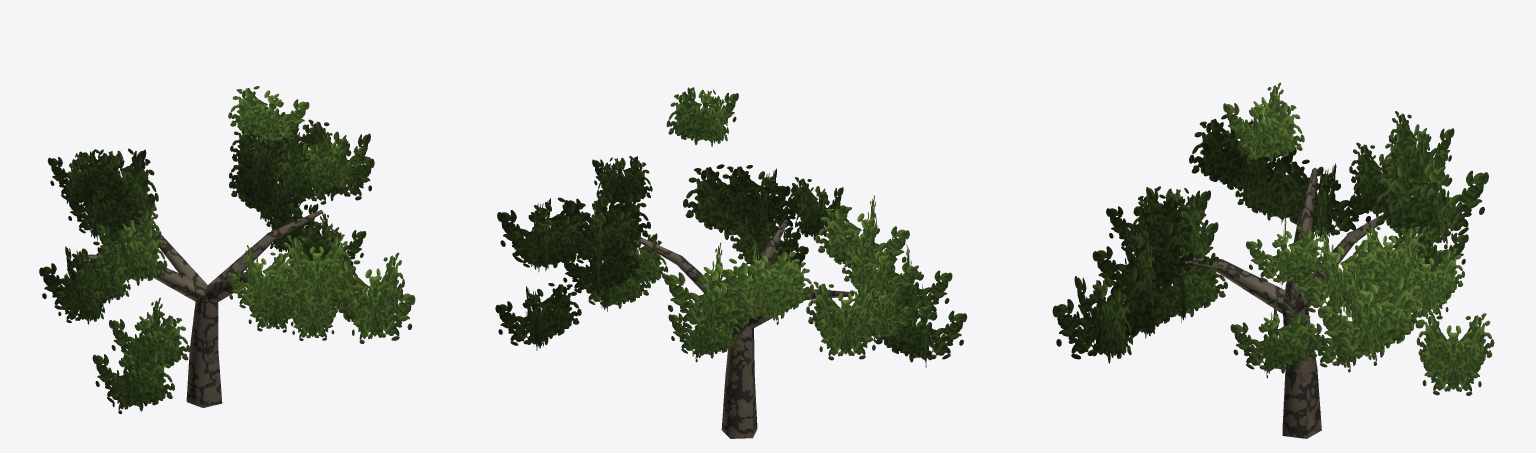
File: oak0_lod1.fbx
3 views of the same model, side by side, from view 1: azimuth 30°, elevation 25°; view 2: azimuth 150°, elevation 25°; view 3: azimuth 270°, elevation 25° (orthographic). The views are drawn at different scales.
Visible parts, largest first — view 1: oak0_lod1; view 2: oak0_lod1; view 3: oak0_lod1.
Part boxes in pixels (x1,y1,x2,y2): oak0_lod1: (39, 86, 415, 413); oak0_lod1: (495, 87, 967, 438); oak0_lod1: (1052, 82, 1494, 438).
Size of the model in its own units: 12.18 by 10.5 by 11.31.
Materials: 2 (2 with a texture image).
